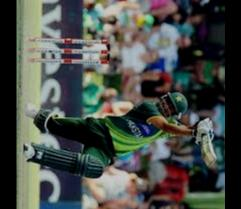batsman: (20, 80, 222, 187)
